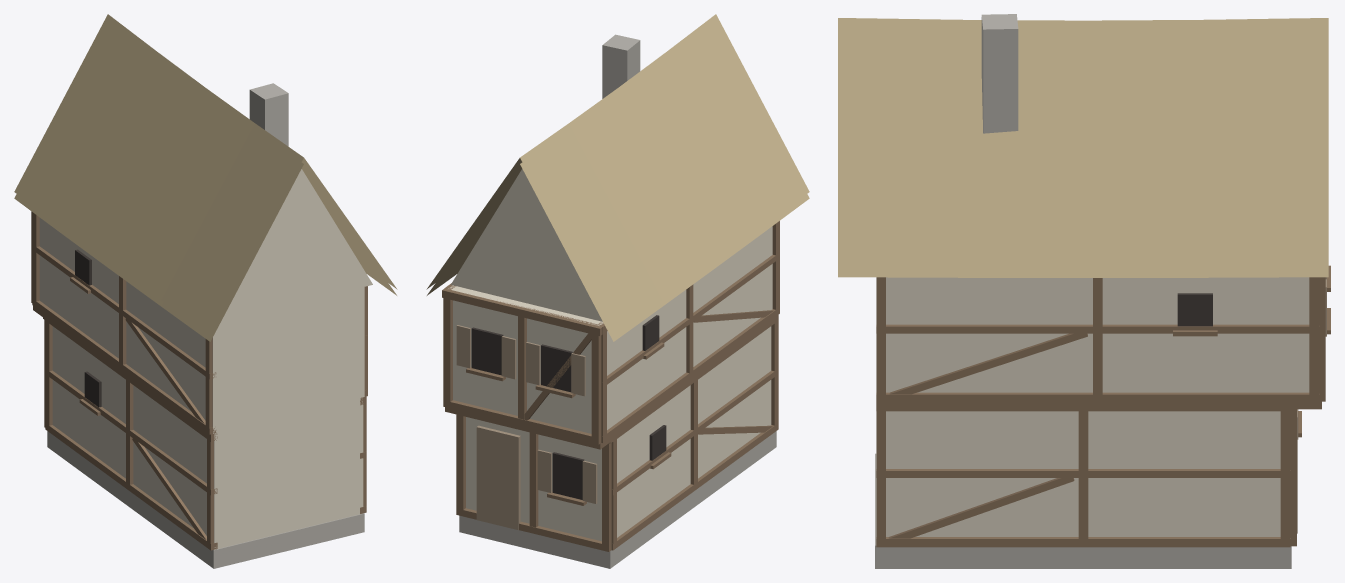
Rendered from house_narrow_b.glb.
3 views of the same model, side by side, from view 1: azimuth 30°, elevation 25°; view 2: azimuth 150°, elevation 25°; view 3: azimuth 270°, elevation 25° (orthographic). The views are drawn at different scales.
Parts seen in each view (by area): view 1: house_narrow_b; view 2: house_narrow_b; view 3: house_narrow_b.
Part boxes in pixels (bbox=[...]): house_narrow_b: bbox=[14, 14, 397, 568]; house_narrow_b: bbox=[426, 14, 809, 568]; house_narrow_b: bbox=[838, 14, 1330, 568].
Size of the model in its own units: 4.22 by 8.94 by 7.68.
